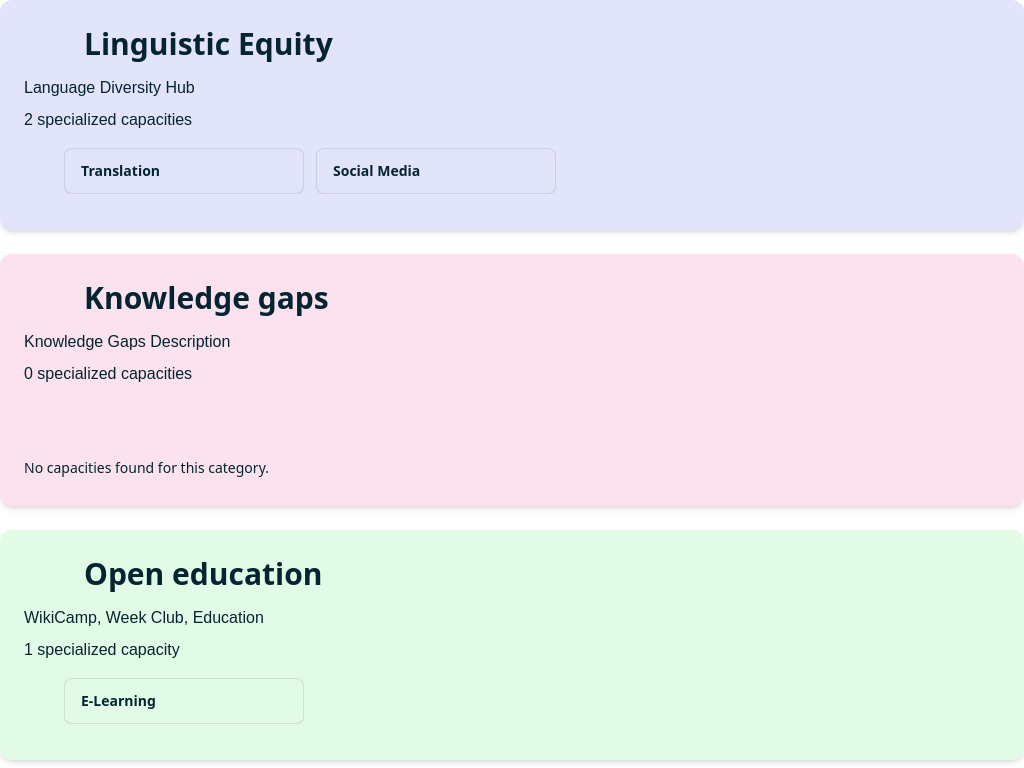
CapacityCategories › desktop layout (isMobile: false) › shows capacity info panel when a chip is clicked
Click the button "Translation" at (184, 171), box [64, 148, 304, 194]
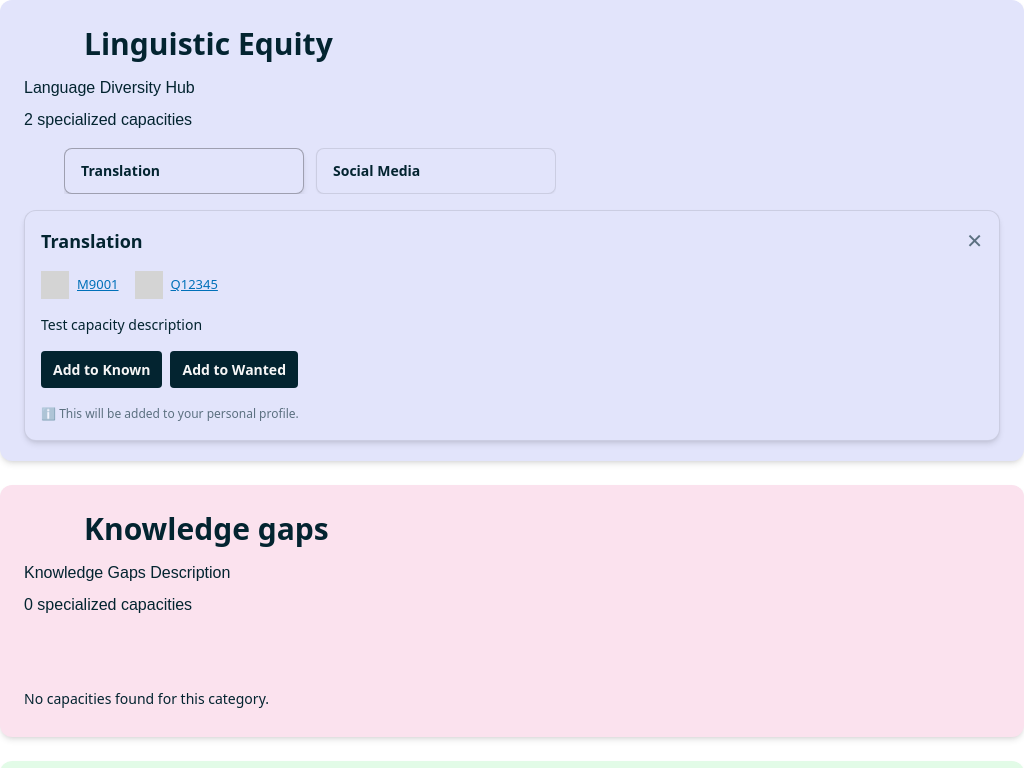
Expected: the text "Add to Known" is shown, [53, 359, 150, 380]
Expected: the text "Add to Wanted" is shown, [182, 359, 286, 380]
